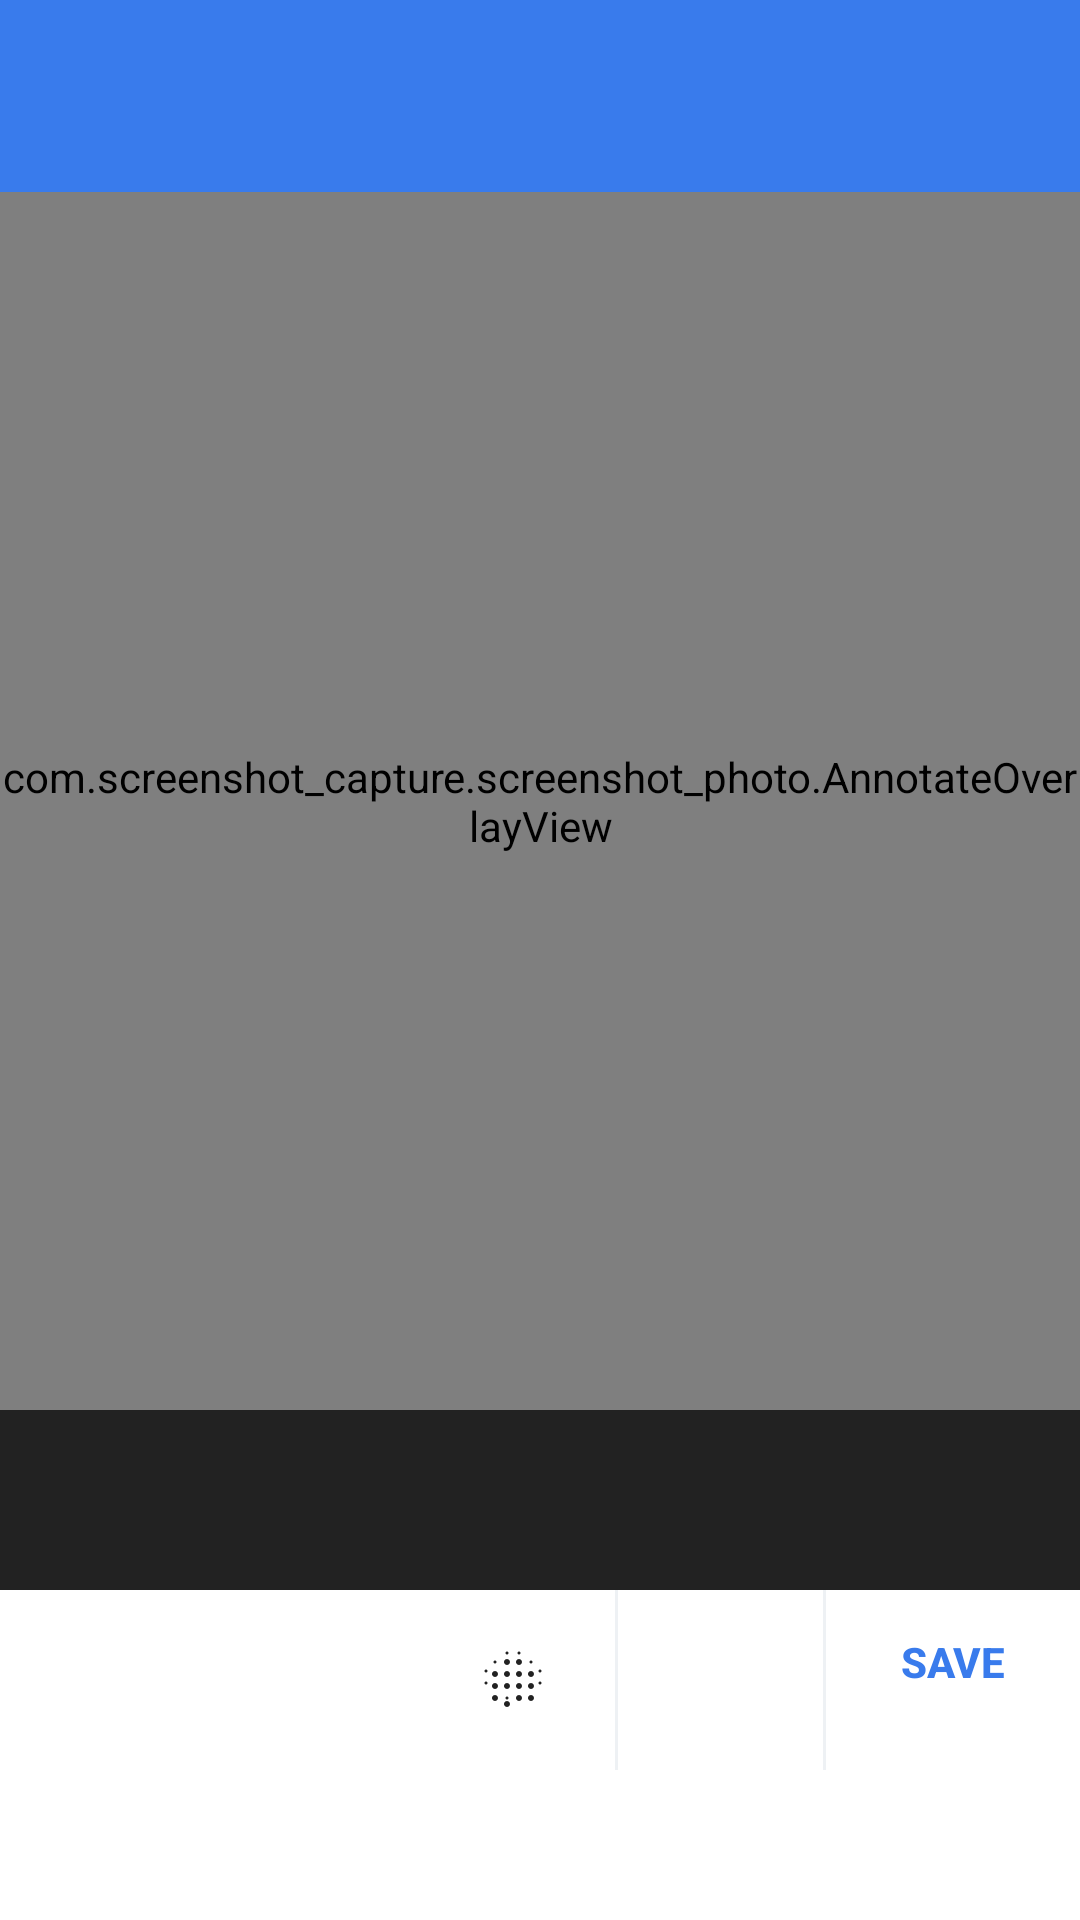

Named icons in this screenshot (1080*1920) and their bounding boxes, {"x1": x1, "y1": y1, "x2": x2, "y2": y2}:
Blur: {"x1": 484, "y1": 1651, "x2": 542, "y2": 1707}
